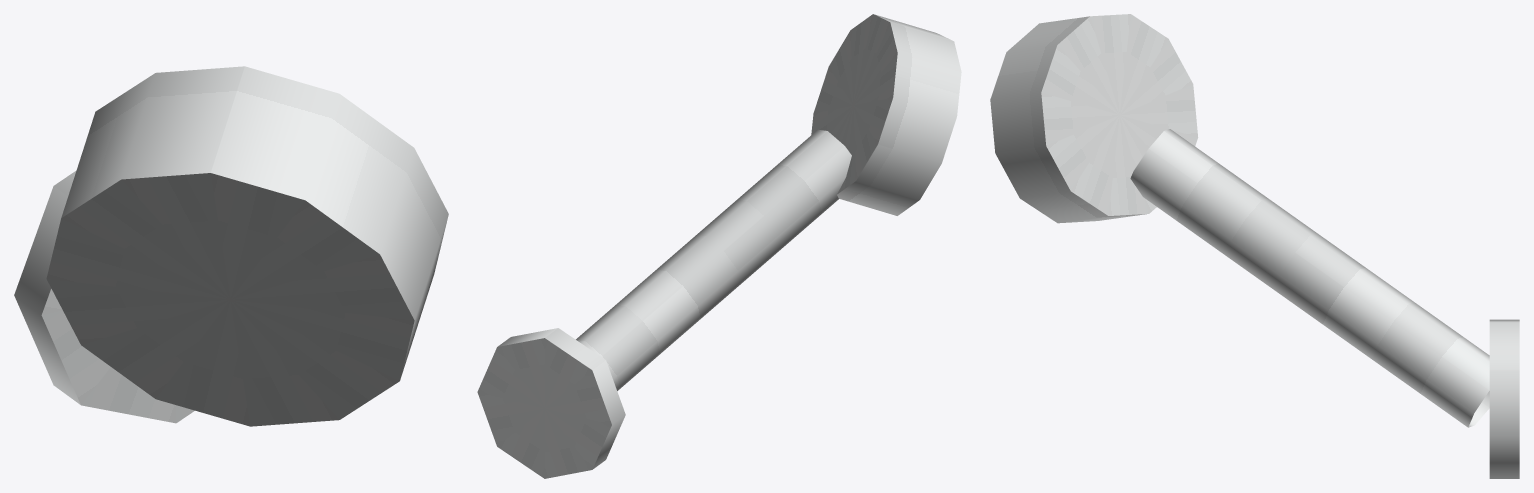
Rendered from nycsignalarm_stub_133.obj.
3 renders of one model, left to right at view 1: azimuth 30°, elevation 25°; view 2: azimuth 150°, elevation 25°; view 3: azimuth 270°, elevation 25°, orthographic. The views are drawn at different scales.
Parts seen in each view (by area): view 1: nycsignalarm_stub_133; view 2: nycsignalarm_stub_133; view 3: nycsignalarm_stub_133.
Boxes of the visible parts, x1,y1,x2,y2 form: nycsignalarm_stub_133: (14,66,448,426); nycsignalarm_stub_133: (477,14,961,478); nycsignalarm_stub_133: (990,14,1519,478).
Bounding box in the file's own units: 0.7676 × 0.8663 × 1.09.
